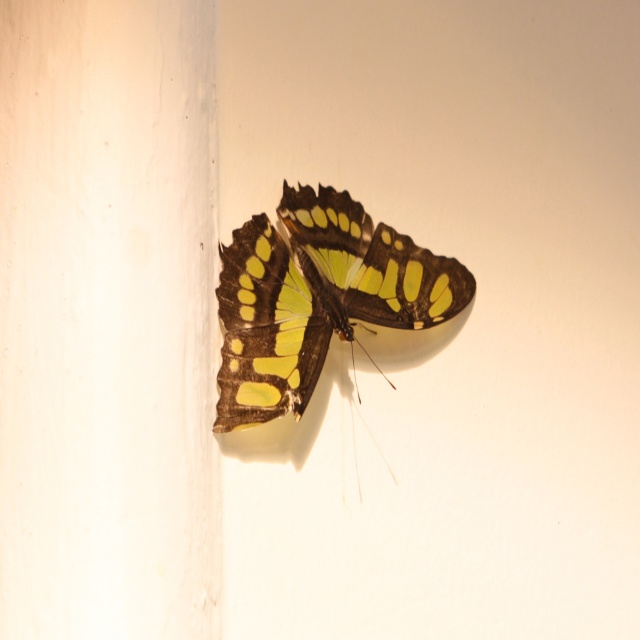Butterfly: (224, 168, 462, 460)
